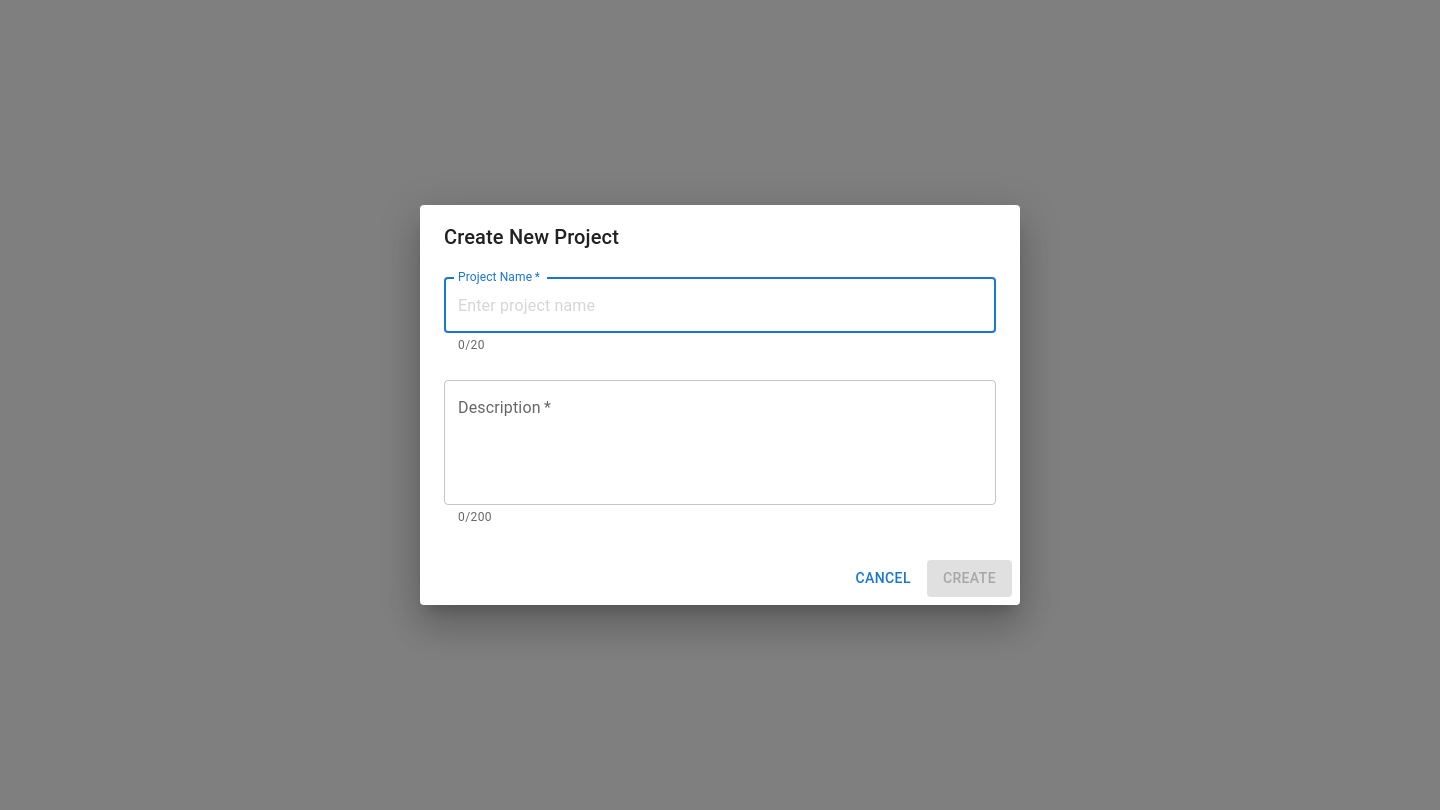
Scenario: CreateProjectDialog › should display character count for name field
Type "Test" into the field with placeholder "Enter project name" at (720, 305), box [444,277,996,333]
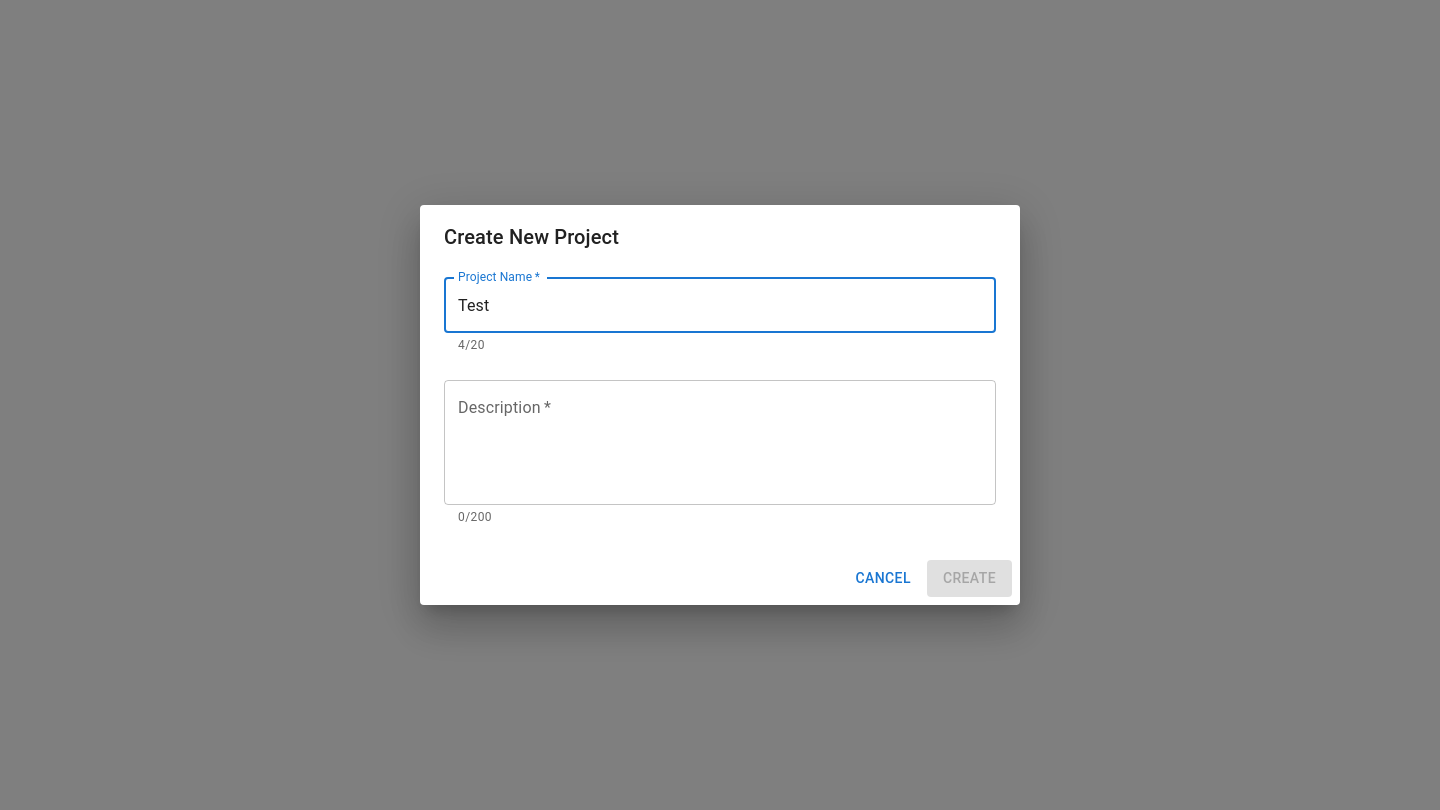
Expected: the text "4/20" is shown, [458,338,485,352]
